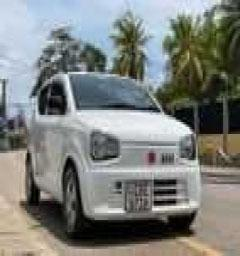car: (13, 52, 232, 240)
